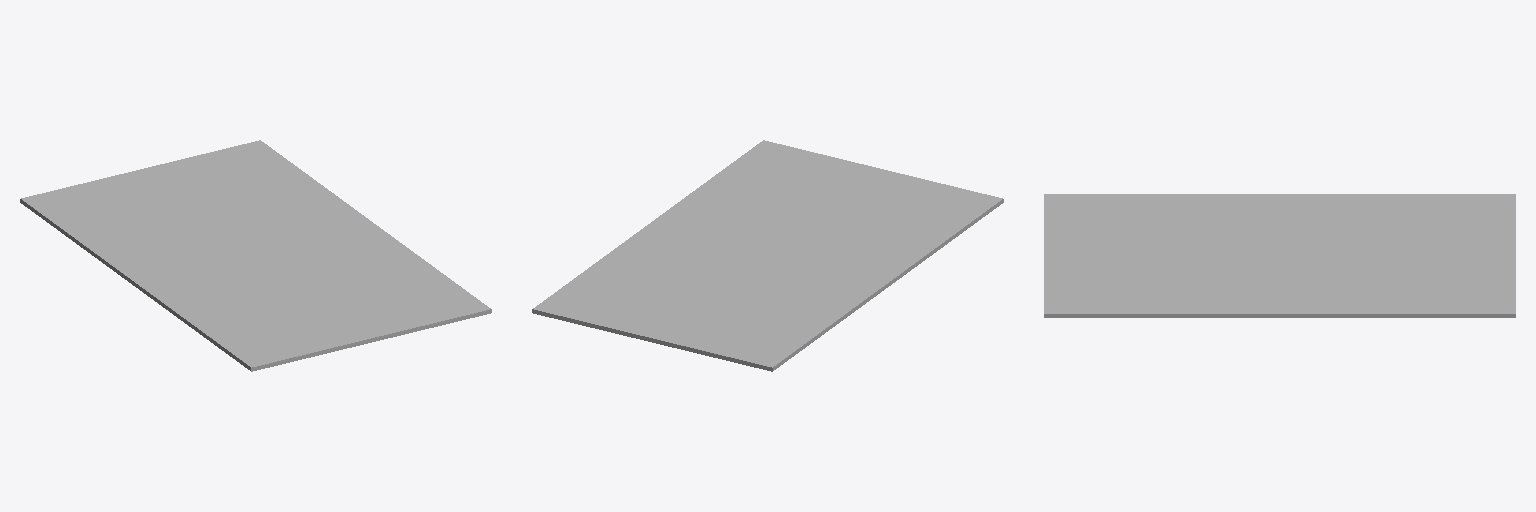
The robot description file, URDF, robot "warehouse_cam":
<?xml version="1.0" ?>
<robot name="warehouse_cam" >


    <!-- Specify material colors here -->
    <material name="blue">
        <color rgba="0 0 0.8 1"/>
    </material>
    <material name="red">
        <color rgba="0.8 0 0 1"/>
    </material>
    <material name="grey">
        <color rgba="0.75 0.75 0.75 1"/>
    </material>

    <!-- Gazebo plugin initialization -->
    <gazebo>
        <plugin name="gazebo_ros_control" filename="libgazebo_ros_control.so">
            <robotNamespace>/warehouse_cam</robotNamespace> This robot name is the same as robot name at the top
        </plugin>
    </gazebo>
   
                <!-- ////////////////////////// === BASE LINKS ==== //////////////////////////////////// -->


   <!-- Main base link -->
    <link name="base_link">
        <visual>
        <origin xyz="0 0 31" rpy="0 0 0"/>
        <geometry>
            <box size="30 50 0.5"/>
        </geometry>
        <material name = "grey"/>
        </visual>

        <collision>
            <origin xyz="0 0 31" rpy="0 0 0"/>
            <geometry>
                <box size="30 50 0.5"/>
            </geometry>
        </collision>
        <inertial>
        <mass value="50" /> This camera was estimated from the mass(weight) of a logitech camera = 0.25kg
        <origin xyz="0 0 31" rpy="0 0 0"/> Inertia was calculated from the inertial calculator program
        <inertia ixx="150.16666666666669" ixy="0" ixz="0" iyy="337.66666666666674" iyz="0" izz="487.50000000000006" />
        </inertial>
    </link>

    This is for color and physical properties in Gazebo, color won't work with the material tag in gazebo
    only for URDF coloring
    <gazebo reference="base_link">
        <mu1>10.0</mu1>
        <mu2>10.0</mu2>
        <material>Gazebo/DarkGrey</material>
    </gazebo>


        <!-- ////////////////////////// === CAMERA LINKS ==== //////////////////////////////////// -->
        Change camera size to make more visible 0.5 0.5 0.5...original = 0.07 0.07 0.07


    <!-- Camera Link 1-->
    <link name="camera_link_1">
        <collision>
        <origin xyz="0 0 0" rpy="0 0 0"/>
        <geometry>
            <box size="0.07 0.07 0.07"/>
        </geometry>
        </collision>

        <visual>
        <origin xyz="0 0 0" rpy="0 0 0"/>
        <geometry>
            <box size="0.07 0.07 0.07"/>
        </geometry>
        <material name="red"/>
        </visual>

        <inertial>
        <mass value="0.25" /> This camera was estimated from the mass(weight) of a logitech camera = 0.25kg
        <origin xyz="0 0 0" rpy="0 0 0"/> Inertia was calculated from the inertial calculator program
        <inertia ixx="0.00020416666666666668" ixy="0" ixz="0" iyy="0.00020416666666666668" iyz="0" izz="0.00020416666666666668" />
        </inertial>
    </link>

    <gazebo reference="camera_link_1">
        <mu1>10.0</mu1>
        <mu2>10.0</mu2>
        <material>Gazebo/Red</material>
    </gazebo>

    <!-- Camera Link 2-->
    <link name="camera_link_2">
        <collision>
        <origin xyz="0 0 0" rpy="0 0 0"/>
        <geometry>
            <box size="0.07 0.07 0.07"/>
        </geometry>
        </collision>

        <visual>
        <origin xyz="0 0 0" rpy="0 0 0"/>
        <geometry>
            <box size="0.07 0.07 0.07"/>
        </geometry>
        <material name="red"/>
        </visual>

        <inertial>
        <mass value="0.25" /> This camera was estimated from the mass(weight) of a logitech camera = 0.25kg
        <origin xyz="0 0 0" rpy="0 0 0"/> Inertia was calculated from the inertial calculator program
        <inertia ixx="0.00020416666666666668" ixy="0" ixz="0" iyy="0.00020416666666666668" iyz="0" izz="0.00020416666666666668" />
        </inertial>
    </link>

    <gazebo reference="camera_link_2">
        <mu1>10.0</mu1>
        <mu2>10.0</mu2>
        <material>Gazebo/Red</material>
    </gazebo>




   



    <!-- ////////////////////////// === Joints ==== //////////////////////////////////// -->
  I can spawn all the camera links at origin 0 0 0  but I use the joints to move them to the positions I want them in.



    <!-- joint = base_link to camera_link -->       camera 1
    <joint name="camera_joint_1" type="fixed">
        <origin xyz="0 0 30.9" rpy="0 0 0"/>  thickness of ceiling/2 + 1
        <parent link="base_link"/>
        <child link="camera_link_1"/>
    </joint>
    1 meter spacing between cameras(not exactly)
    <!-- joint = base_link to camera_link -->       camera 2
    <joint name="camera_joint_2" type="fixed">
        <origin xyz="-5 0 30.9" rpy="0 0 0"/> 
        <parent link="base_link"/>
        <child link="camera_link_2"/>
    </joint>

  
    <!-- Gazebo Camera plugin 1 -->
    <gazebo reference="camera_link_1">
        <sensor type="camera" name="camera1">
            <update_rate>30.0</update_rate>
            <camera name="head">
            <pose>0 0 0 0 1.57 0</pose>
                <horizontal_fov>1.3962634</horizontal_fov>
                <image>
                    <width>640</width>
                    <height>720</height>
                    <format>R8G8B8</format>
                </image>
                <clip>
                    <near>0.02</near>
                    <far>300</far>
                </clip>
                <noise>
                    <type>gaussian</type>
                    <!-- Noise is sampled independently per pixel on each frame.
                        That pixel's noise value is added to each of its color
                        channels, which at that point lie in the range [0,1]. -->
                    <mean>0.0</mean>
                    <stddev>0.007</stddev>
                </noise>
            </camera>

            <plugin name="camera_controller" filename="libgazebo_ros_camera.so">
                <alwaysOn>true</alwaysOn>
                <updateRate>0.0</updateRate>
                <cameraName>warehouse_cam/camera1</cameraName>
                <imageTopicName>image_raw</imageTopicName>
                <cameraInfoTopicName>camera_info</cameraInfoTopicName>
                <frameName>camera_link</frameName>
                <hackBaseline>0.07</hackBaseline>
                <distortionK1>0.0</distortionK1>
                <distortionK2>0.0</distortionK2>
                <distortionK3>0.0</distortionK3>
                <distortionT1>0.0</distortionT1>
                <distortionT2>0.0</distortionT2>
            </plugin>
        </sensor>
    </gazebo>

     <!-- Gazebo Camera plugin  2-->
     <gazebo reference="camera_link_2">
        <sensor type="camera" name="camera2">
            <update_rate>30.0</update_rate>
            <camera name="head">
            <pose>0 0 0 0 1.57 0</pose>    point camera 180 degrees downward
                <horizontal_fov>1.3962634</horizontal_fov>
                <image>
                    <width>640</width>
                    <height>720</height>
                    <format>R8G8B8</format>
                </image>
                <clip>
                    <near>0.02</near>
                    <far>300</far>
                </clip>
                <noise>
                    <type>gaussian</type>
                    <!-- Noise is sampled independently per pixel on each frame.
                        That pixel's noise value is added to each of its color
                        channels, which at that point lie in the range [0,1]. -->
                    <mean>0.0</mean>
                    <stddev>0.007</stddev>
                </noise>
            </camera>
            <plugin name="camera_controller" filename="libgazebo_ros_camera.so">
                <alwaysOn>true</alwaysOn>
                <updateRate>0.0</updateRate>
                <cameraName>warehouse_cam/camera2</cameraName>   change the name
                <imageTopicName>image_raw</imageTopicName>
                <cameraInfoTopicName>camera_info</cameraInfoTopicName>
                <frameName>camera_link</frameName>
                <hackBaseline>0.07</hackBaseline>
                <distortionK1>0.0</distortionK1>
                <distortionK2>0.0</distortionK2>
                <distortionK3>0.0</distortionK3>
                <distortionT1>0.0</distortionT1>
                <distortionT2>0.0</distortionT2>
            </plugin>
        </sensor>
    </gazebo>
    
</robot>

--- Render facts (derived) ---
The picture shows the robot from 3 angles, left to right: view 1: azimuth 30°, elevation 25°; view 2: azimuth 150°, elevation 25°; view 3: azimuth 270°, elevation 25°; orthographic projection.
Robot: warehouse_cam — 3 links, 2 joints (2 fixed); root link base_link; default pose: every joint at zero.
Visible links, largest first — view 1: base_link; view 2: base_link; view 3: base_link.
Link boxes in pixels (x1,y1,x2,y2): base_link: [20, 140, 491, 371]; base_link: [532, 140, 1003, 371]; base_link: [1044, 194, 1515, 317].
Size in the robot's own frame: 30 by 50 by 0.5 metres.
Geometry: primitives only (box / cylinder / sphere), no mesh files.